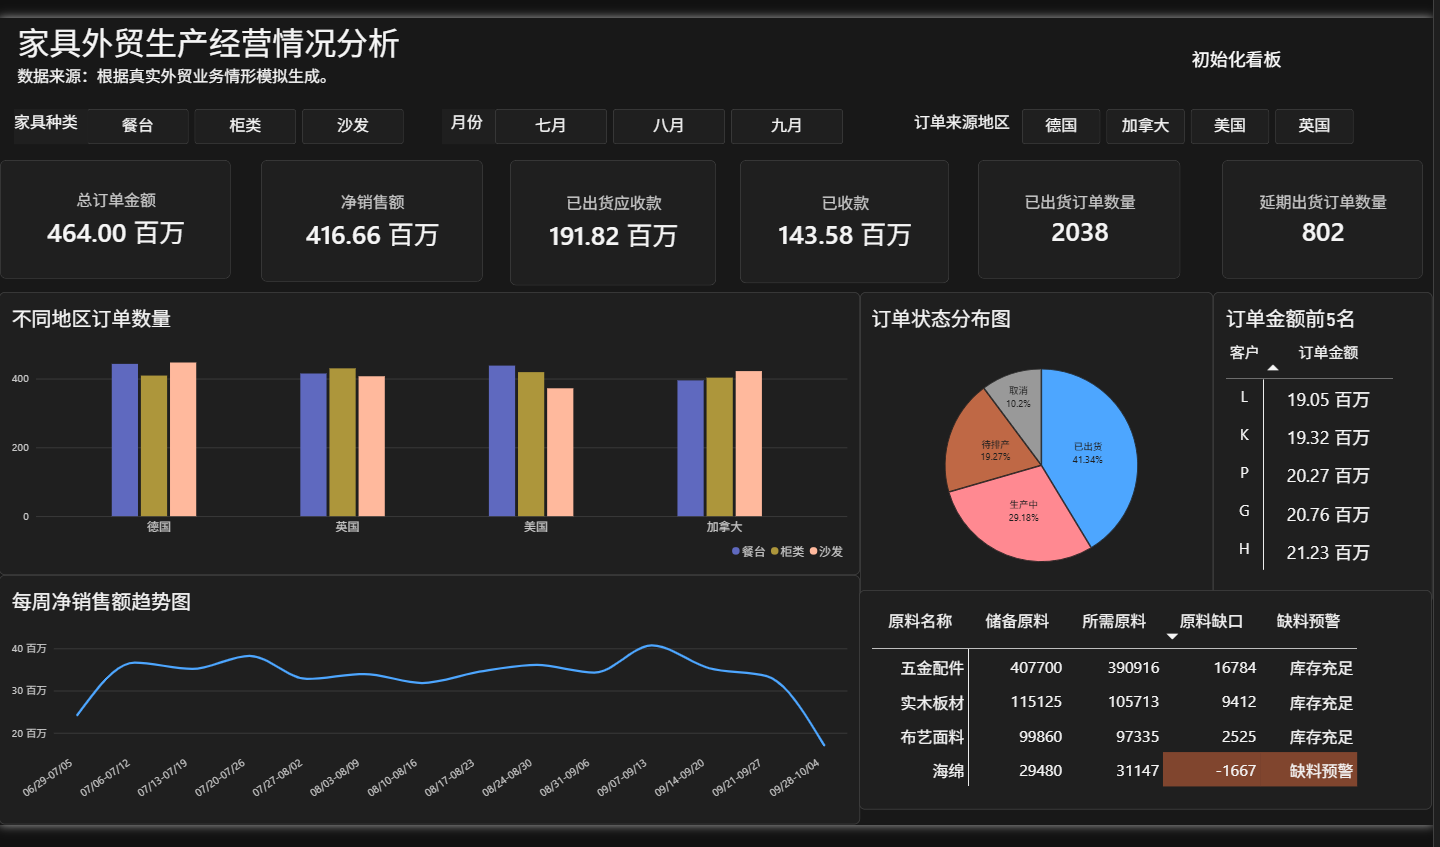

The dashboard page shown, as its layout file describes it:
{"tool":"powerbi","page":{"name":"第 1 页","canvas":[1920,1080],"ordinal":0},"visuals":[{"type":"cardVisual","fields":{"Data":["度量值表.总订单金额"]},"box":[1.5,189.6,309.4,159.2],"z":0},{"type":"cardVisual","fields":{"Data":["度量值表.已收货款"]},"box":[991.8,189.6,280.6,165.3],"z":1000},{"type":"cardVisual","fields":{"Data":["度量值表.已出货应收货款"]},"box":[684,189.6,276,168.3],"z":2000},{"type":"cardVisual","fields":{"Data":["度量值表.净销售额"]},"box":[350.3,189.6,297.3,163.8],"z":3000},{"type":"cardVisual","fields":{"Data":["度量值表.已出货订单数量"]},"box":[1310.3,189.6,271.5,159.2],"z":4000},{"type":"cardVisual","fields":{"Data":["度量值表.延期出货订单数量"]},"box":[1637.9,189.6,270,159.2],"z":5000},{"type":"advancedSlicerVisual","title":"月份","fields":{"Values":["日期表.月份"]},"box":[664.3,121.3,468.6,47],"z":6000},{"type":"textbox","box":[593,121.3,71.3,47],"z":7000},{"type":"textbox","box":[1.5,0,646.1,109.2],"z":8000},{"type":"lineChart","title":"每周净销售额趋势图","fields":{"Category":["日期表.月-周层次结构.月份名称","日期表.月-周层次结构.周区间"],"Y":["Sum(orders_overview.receivable)"]},"box":[0,746.2,1152.6,333.6],"z":9000},{"type":"pieChart","title":"订单状态分布图","fields":{"Category":["orders_overview.order_status"],"Series":["order_status.order_status"],"Y":["Sum(orders_overview.order_amount)"]},"box":[1152.6,367,472.7,418],"z":10000},{"type":"pivotTable","title":"订单金额前5名","fields":{"Rows":["orders_overview.customer_name"],"Values":["Sum(orders_overview.receivable)"]},"box":[1625.8,367,294.2,417.1],"z":11000},{"type":"advancedSlicerVisual","fields":{"Values":["category.category"]},"box":[118.3,121.3,426.2,47],"z":12000},{"type":"textbox","box":[19.7,121.3,98.6,47],"z":13000},{"type":"textbox","box":[1225.4,121.3,144.1,47],"z":14000},{"type":"advancedSlicerVisual","fields":{"Values":["country.country"]},"box":[1369.5,121.3,447.4,47],"z":15000},{"type":"actionButton","box":[1540.9,18.2,232,72.8],"z":16000},{"type":"clusteredColumnChart","title":"不同地区订单数量","fields":{"Category":["country.country"],"Series":["orders_overview.category"],"Y":["CountNonNull(orders_overview.order_id)"]},"box":[0,367,1152.6,379.1],"z":16001},{"type":"pivotTable","fields":{"Rows":["orders_material_table.material_name"],"Values":["Sum(orders_material_table.current_stock)","Sum(orders_material_table.needed_material)","Min(orders_material_table.原料缺口)","Min(orders_material_table.shortage_warning)"]},"box":[1152,766.5,767.4,294.2],"z":16002}]}

Visuals, with their boxes on the page's 1920x1080 design canvas (x1, y1, x2, y2). These are canvas units, not pixel positions in the 1440x847 screenshot, which may show the page scaled, cropped or inside an application window:
cardVisual - 度量值表.总订单金额: rect(2, 190, 311, 349)
cardVisual - 度量值表.已收货款: rect(992, 190, 1272, 355)
cardVisual - 度量值表.已出货应收货款: rect(684, 190, 960, 358)
cardVisual - 度量值表.净销售额: rect(350, 190, 648, 353)
cardVisual - 度量值表.已出货订单数量: rect(1310, 190, 1582, 349)
cardVisual - 度量值表.延期出货订单数量: rect(1638, 190, 1908, 349)
"月份" advancedSlicerVisual: rect(664, 121, 1133, 168)
textbox: rect(593, 121, 664, 168)
textbox: rect(2, 0, 648, 109)
"每周净销售额趋势图" lineChart: rect(0, 746, 1153, 1080)
"订单状态分布图" pieChart: rect(1153, 367, 1625, 785)
"订单金额前5名" pivotTable: rect(1626, 367, 1920, 784)
advancedSlicerVisual - category.category: rect(118, 121, 544, 168)
textbox: rect(20, 121, 118, 168)
textbox: rect(1225, 121, 1370, 168)
advancedSlicerVisual - country.country: rect(1370, 121, 1817, 168)
actionButton: rect(1541, 18, 1773, 91)
"不同地区订单数量" clusteredColumnChart: rect(0, 367, 1153, 746)
pivotTable - orders_material_table.material_name x Sum(orders_material_table.current_stock): rect(1152, 766, 1919, 1061)
